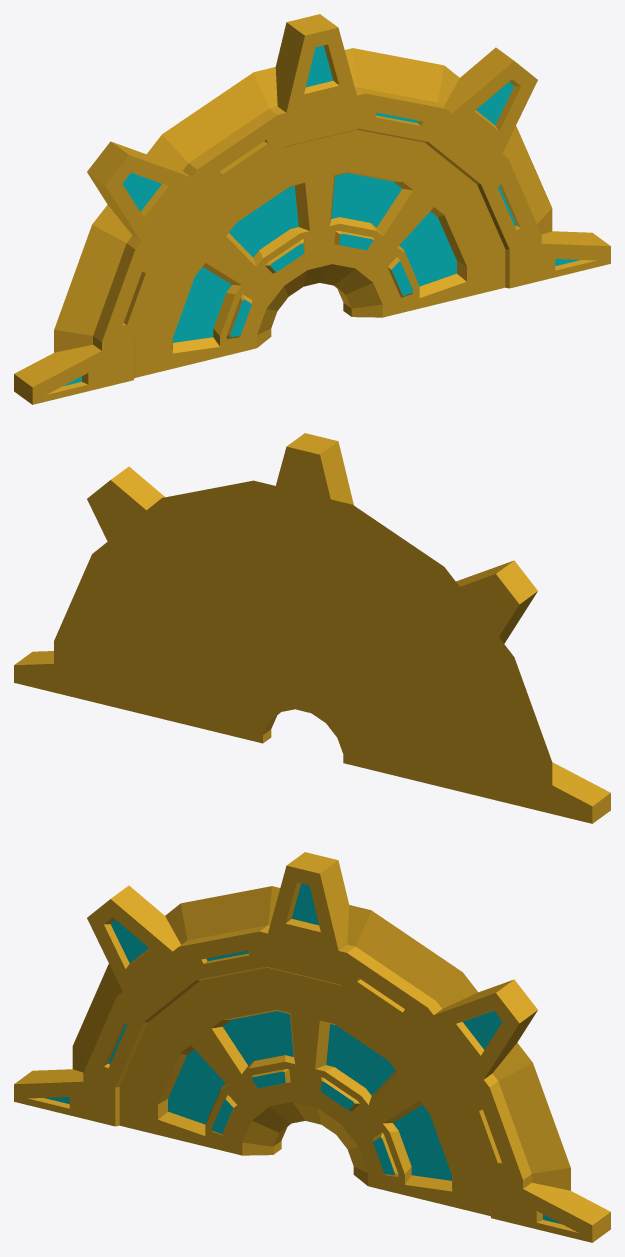
The model's file is Prop_Jungle_Temple_Ornament_Half_Sun_Gold_Gem_01.FBX.
The picture shows the model from 3 angles, top to bottom: view 1: azimuth 30°, elevation 25°; view 2: azimuth 150°, elevation 25°; view 3: azimuth 330°, elevation 25°; orthographic projection.
Visible parts, largest first — view 1: Prop_Jungle_Temple_Ornament_Half_Sun_Gold_Gem_01; view 2: Prop_Jungle_Temple_Ornament_Half_Sun_Gold_Gem_01; view 3: Prop_Jungle_Temple_Ornament_Half_Sun_Gold_Gem_01.
Boxes of the visible parts, x1,y1,x2,y2 form: Prop_Jungle_Temple_Ornament_Half_Sun_Gold_Gem_01: [14, 14, 610, 404]; Prop_Jungle_Temple_Ornament_Half_Sun_Gold_Gem_01: [14, 433, 610, 823]; Prop_Jungle_Temple_Ornament_Half_Sun_Gold_Gem_01: [14, 852, 610, 1242].
Size of the model in its own units: 3037 by 1519 by 168.
